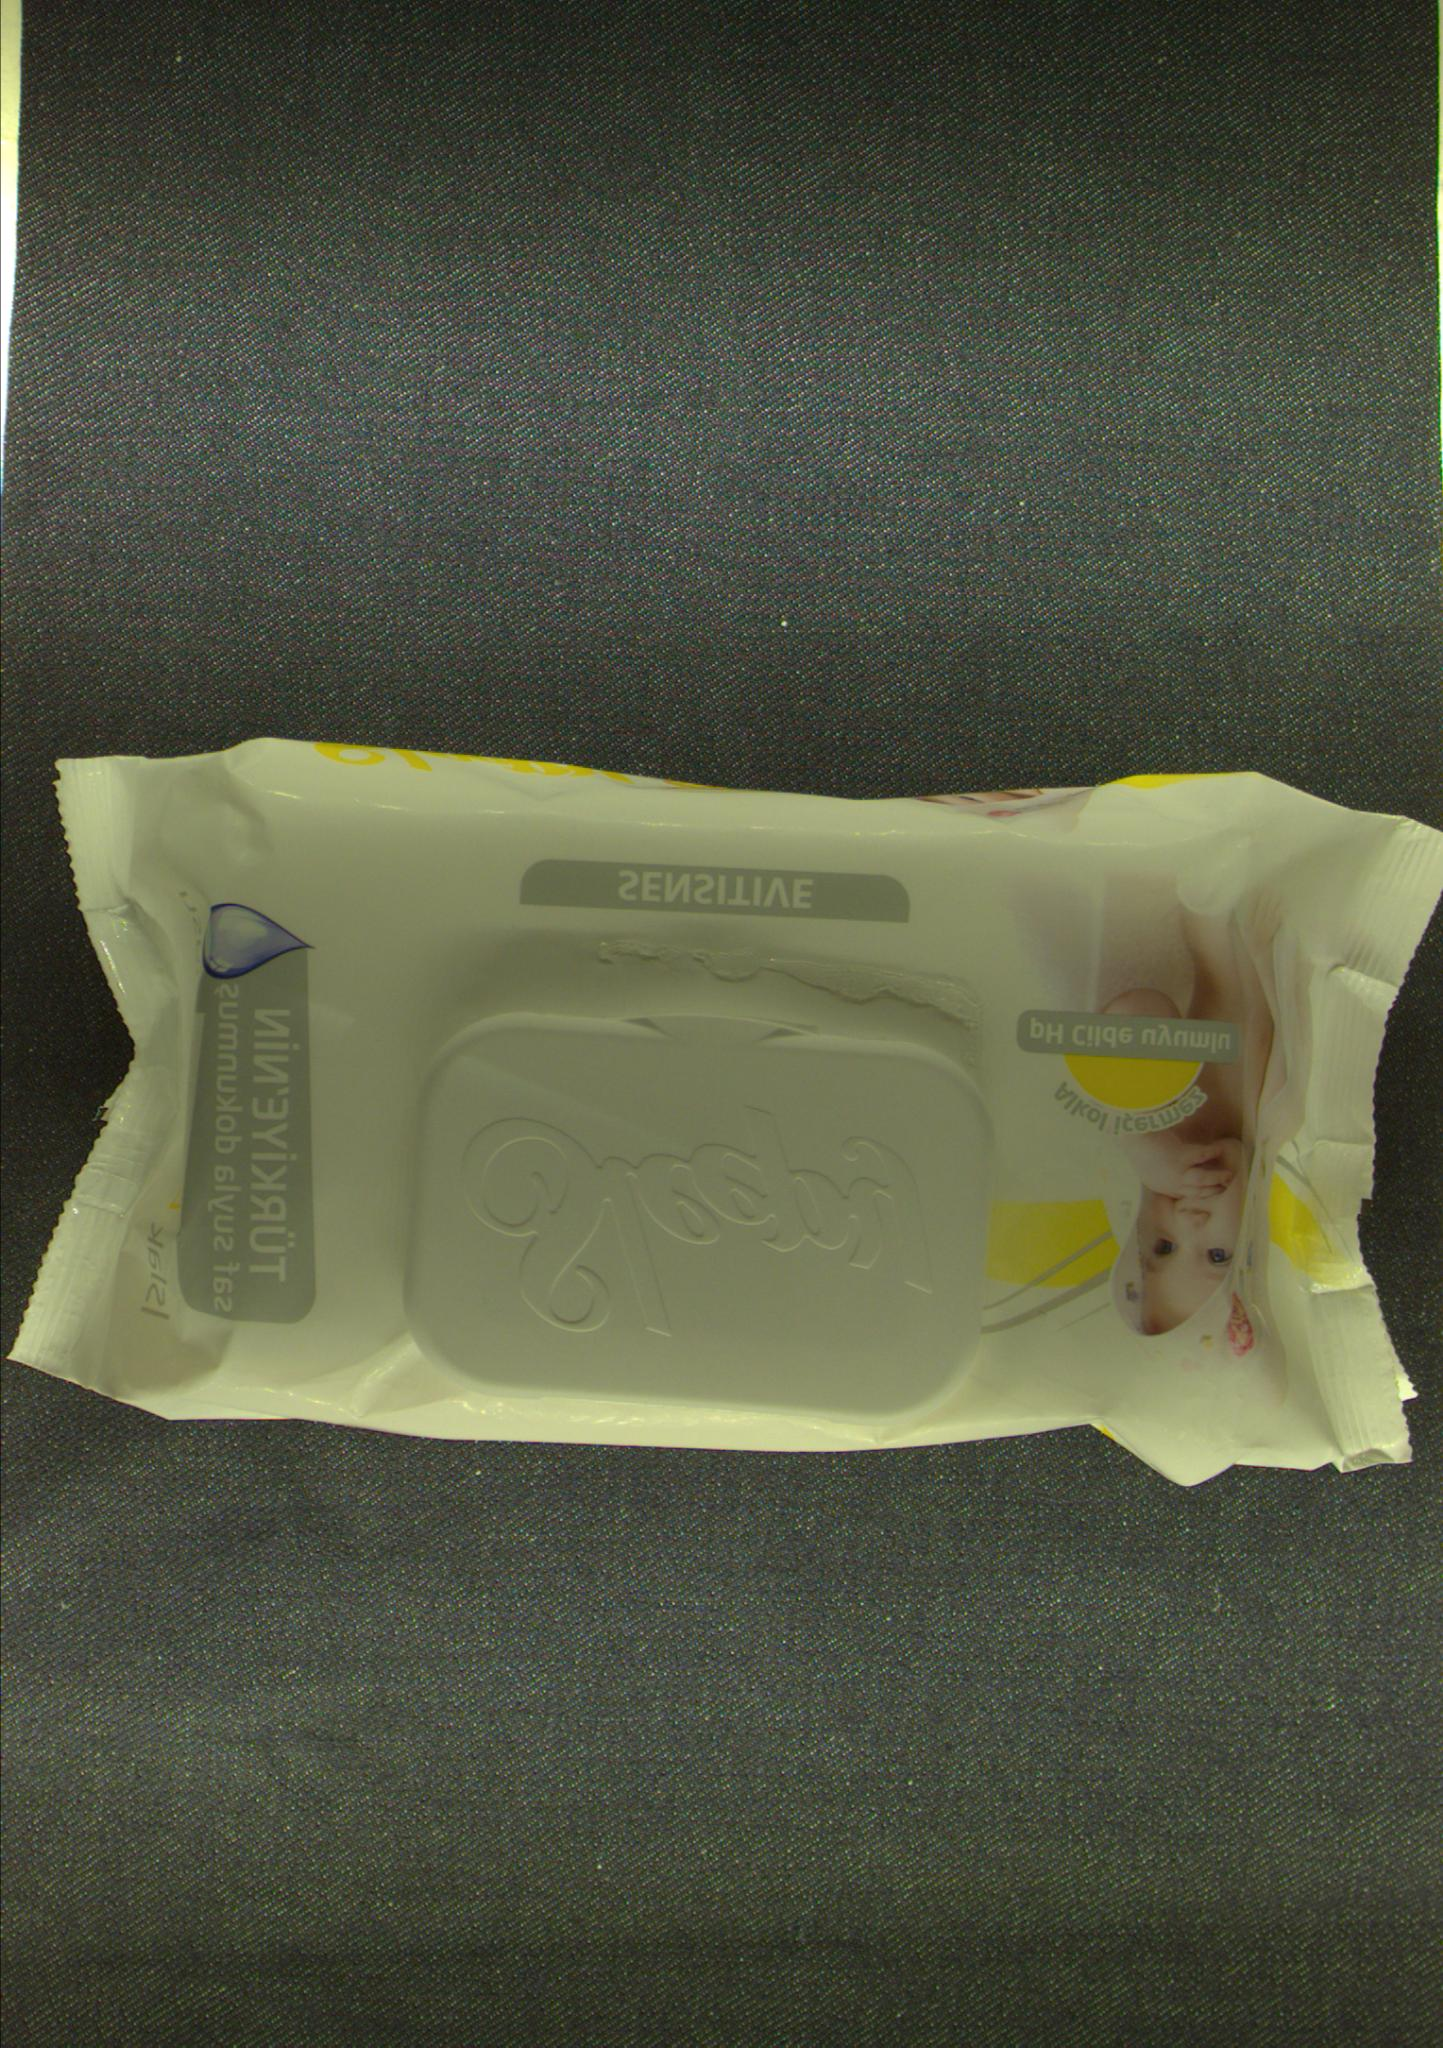kapak: (412, 1015, 990, 1406)
